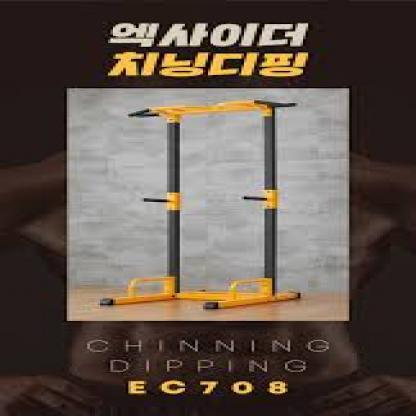chinning dipping: (97, 99, 304, 311)
